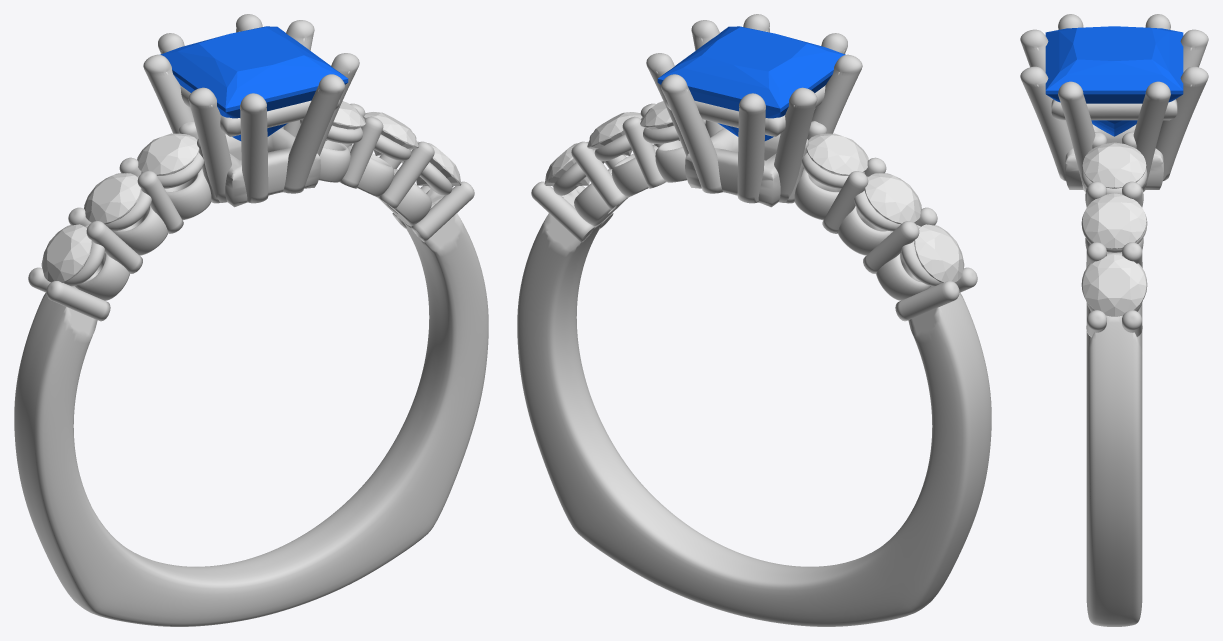
File: bluesapphire-princess-platinum-8prong-europeanshank-7stone.glb
3 views of the same model, side by side, from view 1: azimuth 30°, elevation 25°; view 2: azimuth 150°, elevation 25°; view 3: azimuth 270°, elevation 25° (orthographic). The views are drawn at different scales.
Parts seen in each view (by area): view 1: metal, stone, side, side.001, side.002, side.004, side.005; view 2: metal, stone, side, side.001, side.002, side.004, side.005; view 3: metal, stone, side.005, side.004, side.003.
Boxes of the visible parts, bbox=[...] form: metal: bbox=[14, 14, 488, 626]; stone: bbox=[160, 26, 348, 140]; side: bbox=[41, 224, 91, 282]; side.001: bbox=[84, 173, 141, 224]; side.002: bbox=[137, 133, 199, 175]; side.004: bbox=[363, 112, 418, 155]; side.005: bbox=[416, 141, 461, 185]; metal: bbox=[517, 14, 991, 626]; stone: bbox=[657, 26, 845, 140]; side: bbox=[914, 224, 964, 282]; side.001: bbox=[864, 173, 921, 224]; side.002: bbox=[806, 133, 868, 175]; side.004: bbox=[587, 112, 642, 155]; side.005: bbox=[544, 141, 589, 185]; metal: bbox=[1020, 14, 1208, 626]; stone: bbox=[1045, 26, 1183, 136]; side.005: bbox=[1082, 255, 1146, 316]; side.004: bbox=[1082, 193, 1146, 249]; side.003: bbox=[1082, 142, 1146, 188].
Size of the model in its own units: 20.11 by 23.65 by 7.42.
